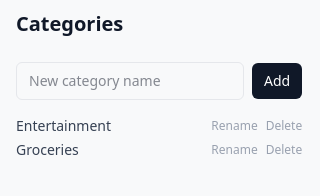
Scenario: CategoriesPage › shows "Category already exists" when addCategory throws
Expected: the text "Entertainment" is shown, [16,116,111,135]
Type "Entertainment" into the field labelled "New category name". click: (130, 81)
box: [16,62,244,100]
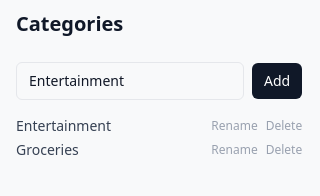
Click the button "Add". click: click(277, 81)
box: [252,63,302,99]
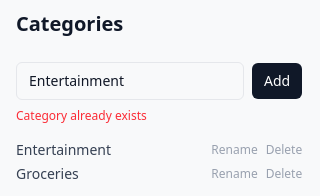
Result: the text "Category already exists" is shown at [16,107,147,124]
